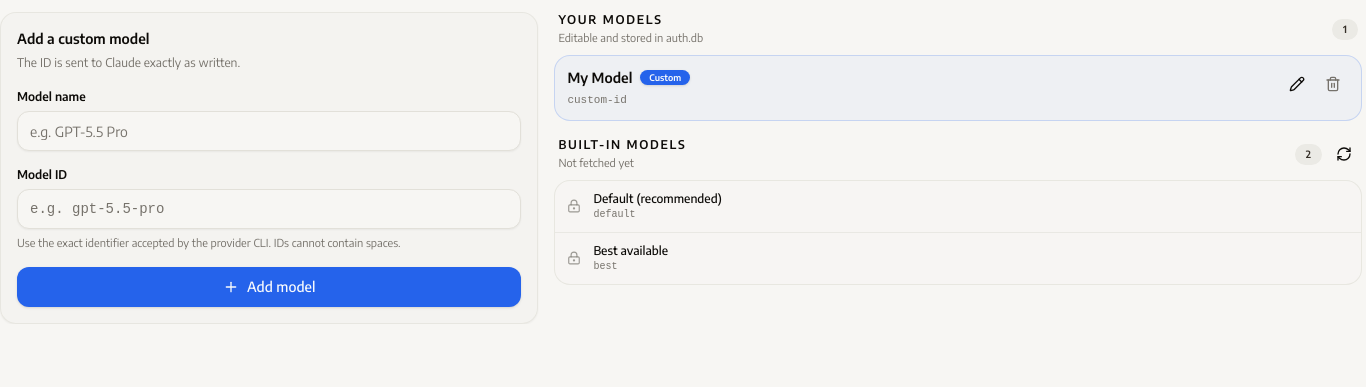
Test: the model settings form and built-in aliases render in en
The image size is (1366, 387).
Expected: the text "Your models" is shown, [558,12,663,27]
Expected: the text "Built-in models" is shown, [558,137,686,153]
Type "New Model" into the field labelled "Model name".
click(269, 131); type("New Model")  # box [17,111,521,151]
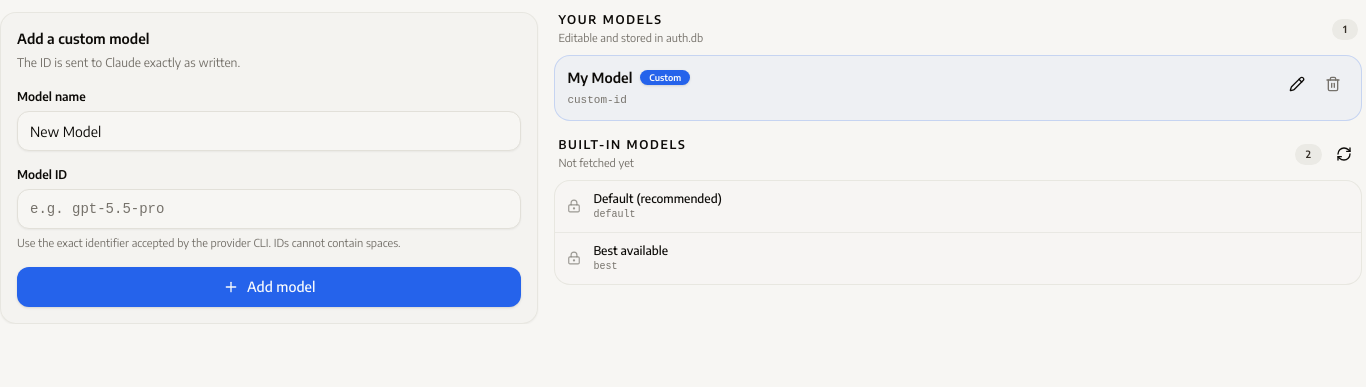
Type "new-model" into the field labelled "Model ID".
click(269, 209); type("new-model")  # box [17,189,521,229]
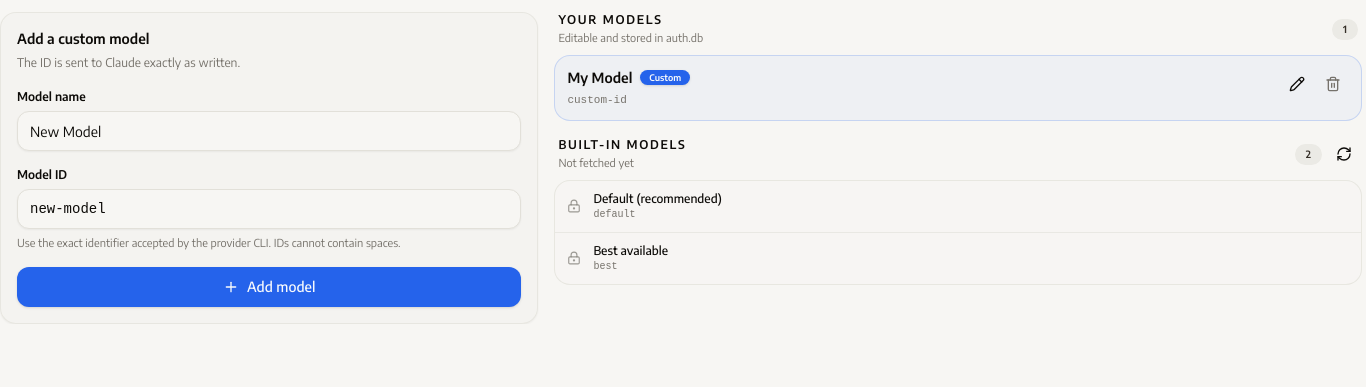
Click the button "Add model".
click(269, 287)  # box [17,267,521,307]
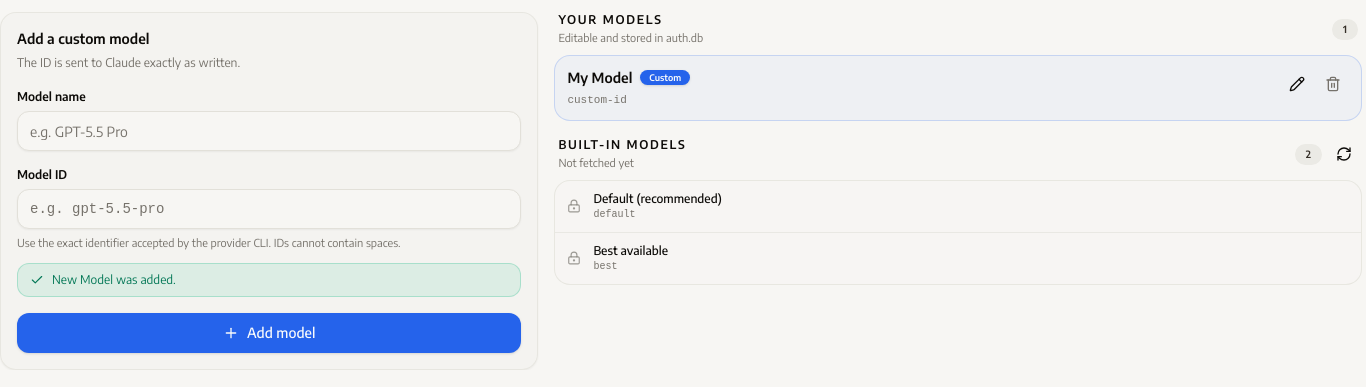
Now the text "New Model was added." is shown, box [17,263,521,297]
